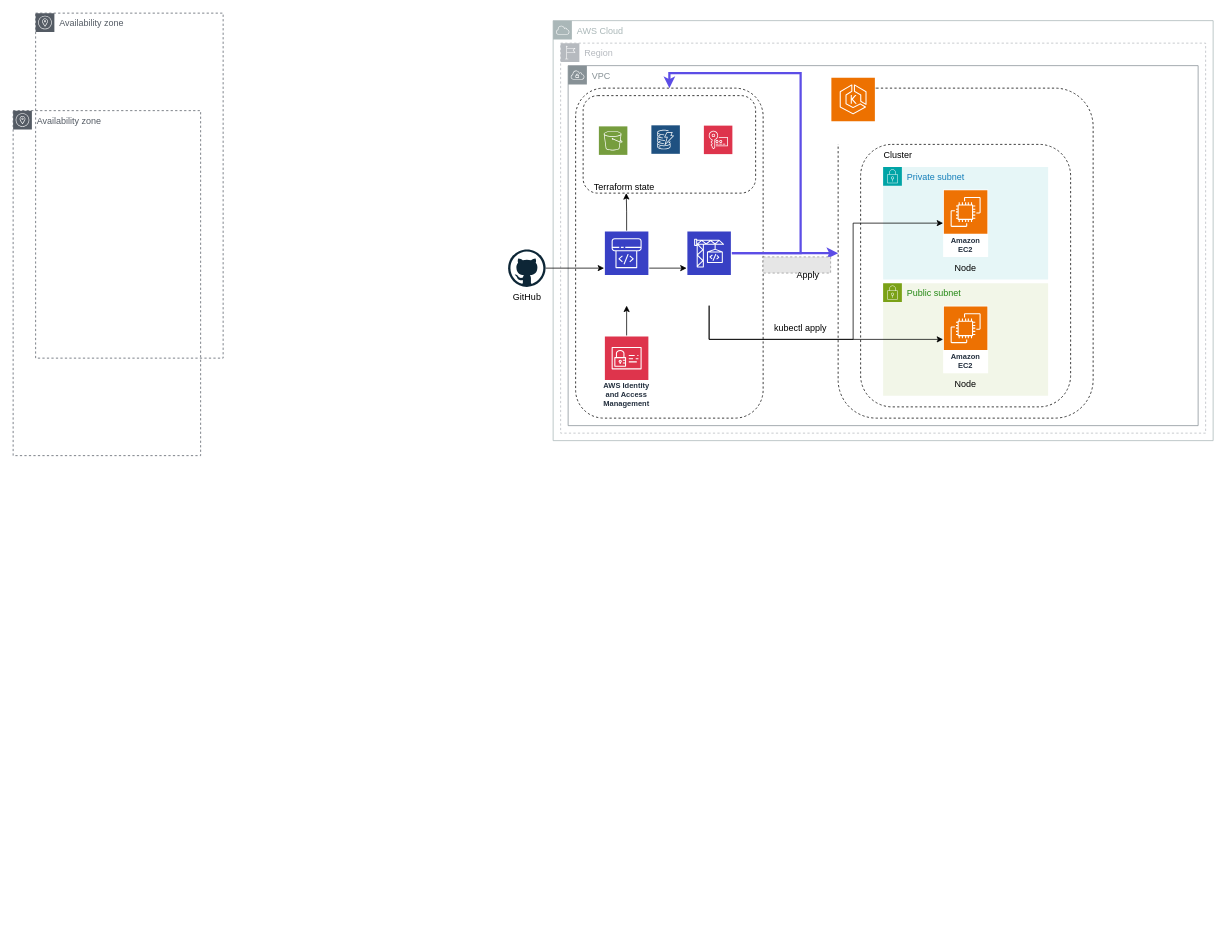
The diagram is 1226 pixels wide and 945 high, and some of its shapes have lost their labels. Grey dashed boxes stand in for pictures. The shapes that lost their labels are listed below. From the top down, each one's centre as x and y in pixels, then its label:
point 853,110: Amazon EKS
point 612,150: Amazon S3
point 665,150: Amazon DynamoDB
point 717,154: AWS Key Management Service
point 626,268: AWS CodePipeline
point 709,268: AWS CodeBuild
